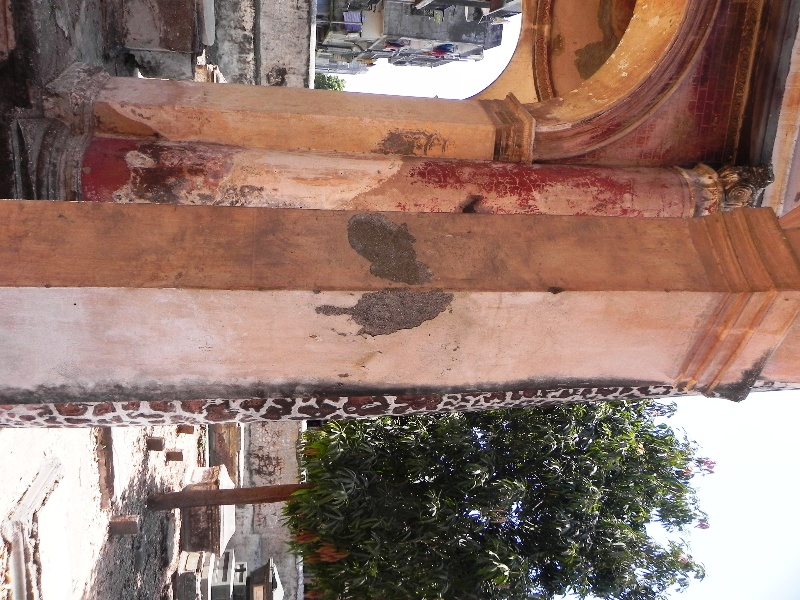Spalling: (342, 208, 449, 285), (309, 290, 461, 338)
